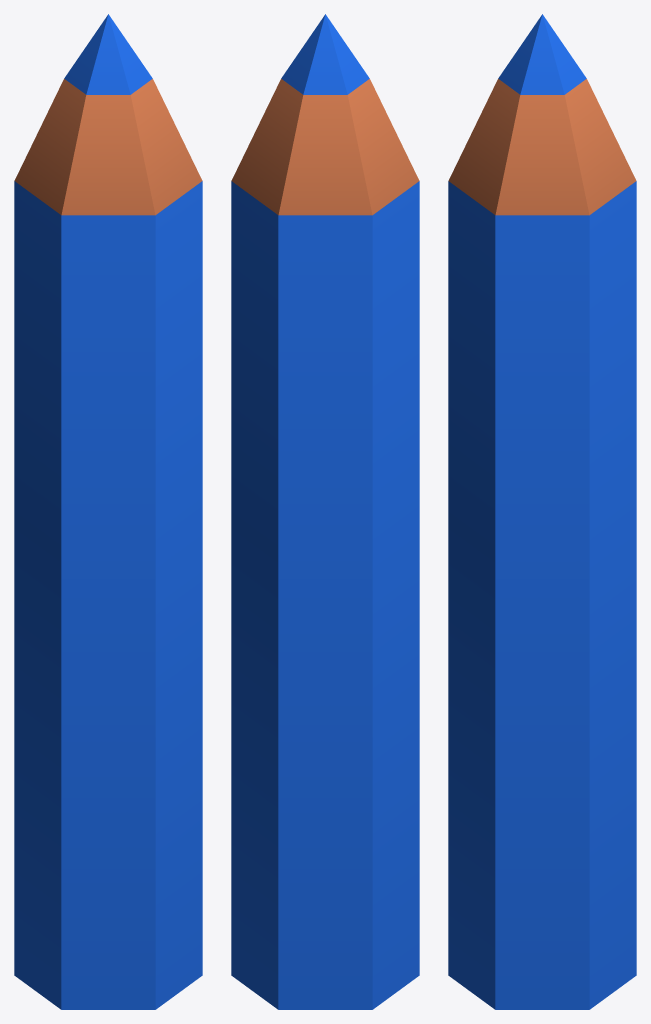
File: pencil_blue.obj
3 views of the same model, side by side, from view 1: azimuth 30°, elevation 25°; view 2: azimuth 150°, elevation 25°; view 3: azimuth 270°, elevation 25° (orthographic).
Parts seen in each view (by area): view 1: pencil_blue_Cylinder.118; view 2: pencil_blue_Cylinder.118; view 3: pencil_blue_Cylinder.118.
Boxes of the visible parts, <box> form: pencil_blue_Cylinder.118: <box>14,14,202,1009</box>; pencil_blue_Cylinder.118: <box>231,14,419,1009</box>; pencil_blue_Cylinder.118: <box>448,14,636,1009</box>.
Bounding box in the file's own units: 0.0667 × 0.4398 × 0.077.
